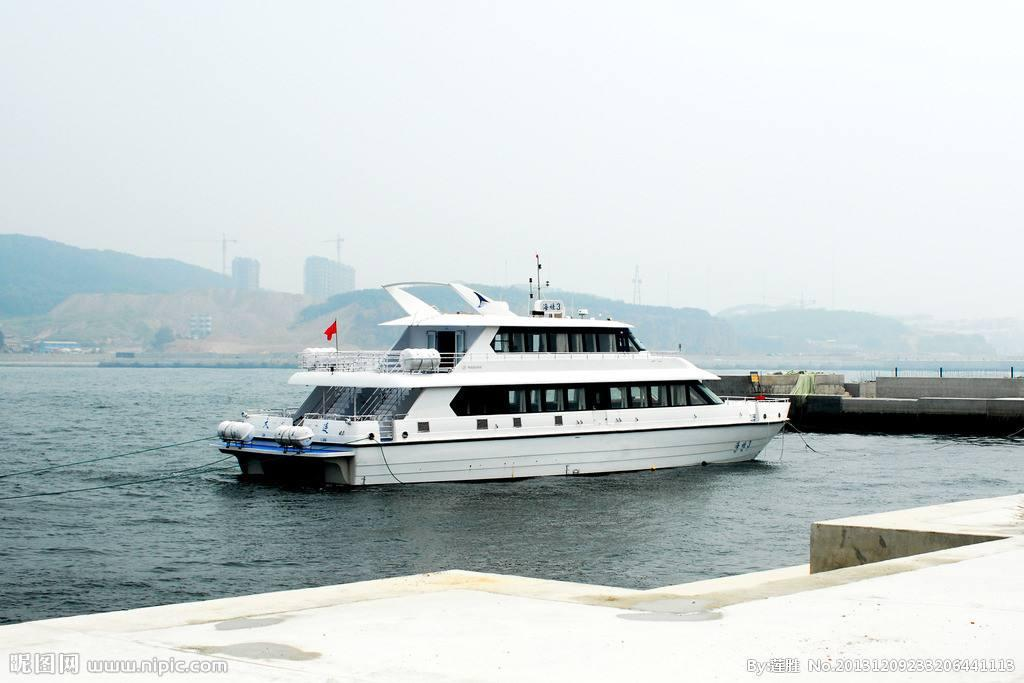yacht: (207, 249, 797, 490)
